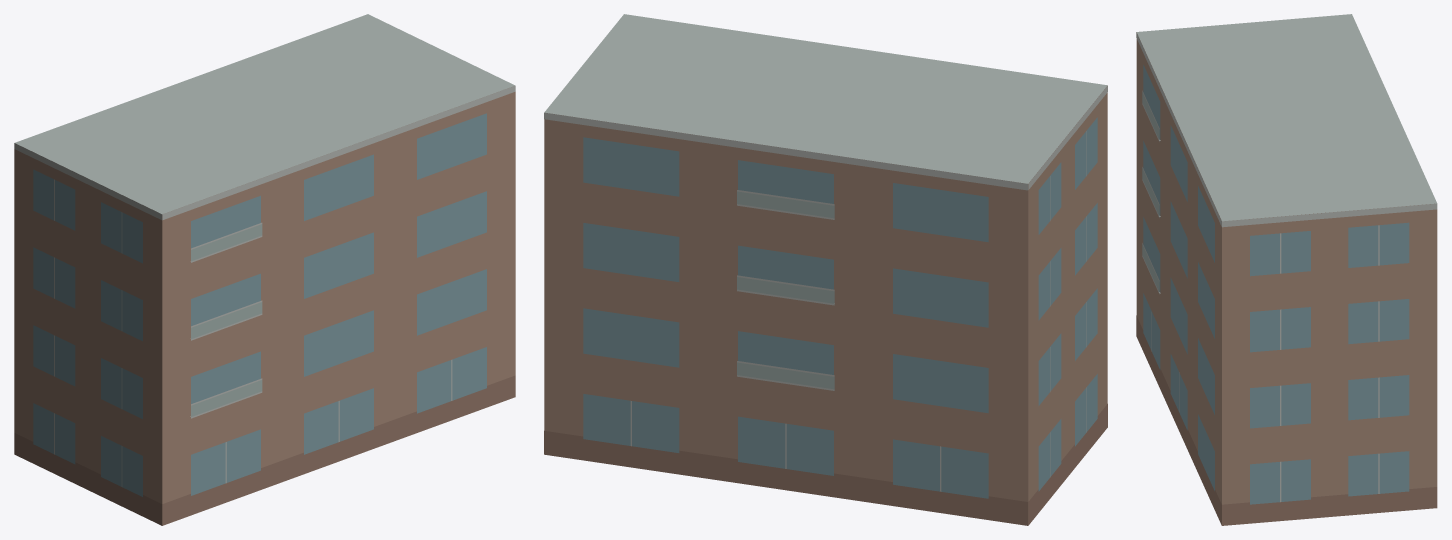
Rendered from survey-upis-32766512.glb.
3 views of the same model, side by side, from view 1: azimuth 30°, elevation 25°; view 2: azimuth 150°, elevation 25°; view 3: azimuth 270°, elevation 25° (orthographic). The views are drawn at different scales.
Parts seen in each view (by area): view 1: survey-upis-32766512.tmp; view 2: survey-upis-32766512.tmp; view 3: survey-upis-32766512.tmp.
Part boxes in pixels (box(x1,y1,x2,y2)): survey-upis-32766512.tmp: box(14, 14, 515, 525); survey-upis-32766512.tmp: box(544, 14, 1107, 525); survey-upis-32766512.tmp: box(1136, 14, 1437, 525).
Bounding box in the file's own units: 18.26 × 12.5 × 11.2.
